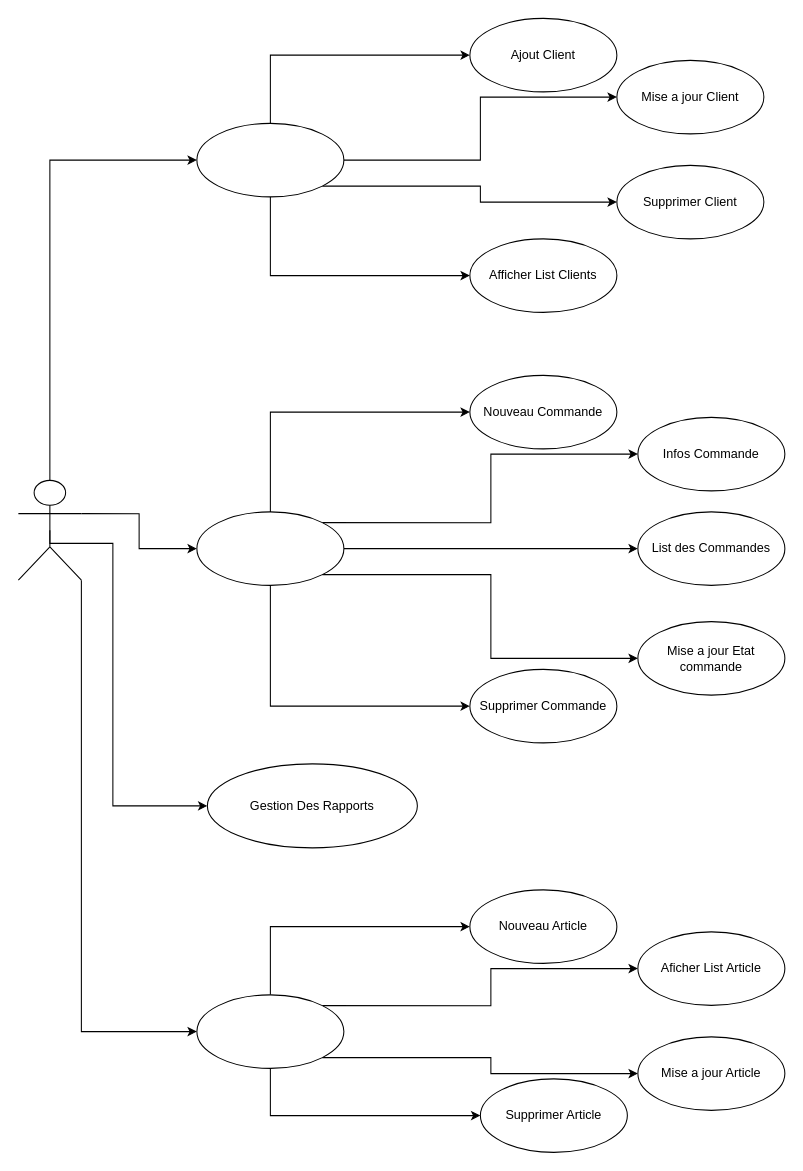
Some shapes in this 803 by 1171 pixel diagram are drawn without their labels. The box of each missing label's shape, as (x1, y1, x2, y2) in pixels:
Gestion des Articles: (196, 994, 344, 1068)
Gestion des Clients: (196, 122, 344, 197)
Gestion des Commandes: (196, 511, 344, 585)
Utilisateur: (17, 479, 81, 580)
